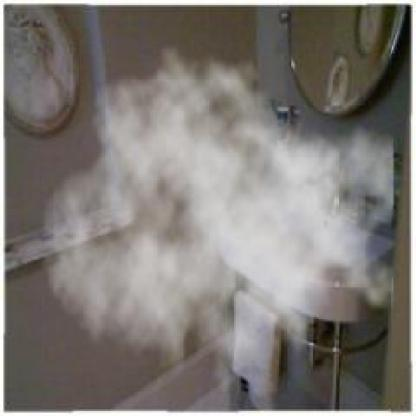Smoke: (41, 42, 394, 410)
